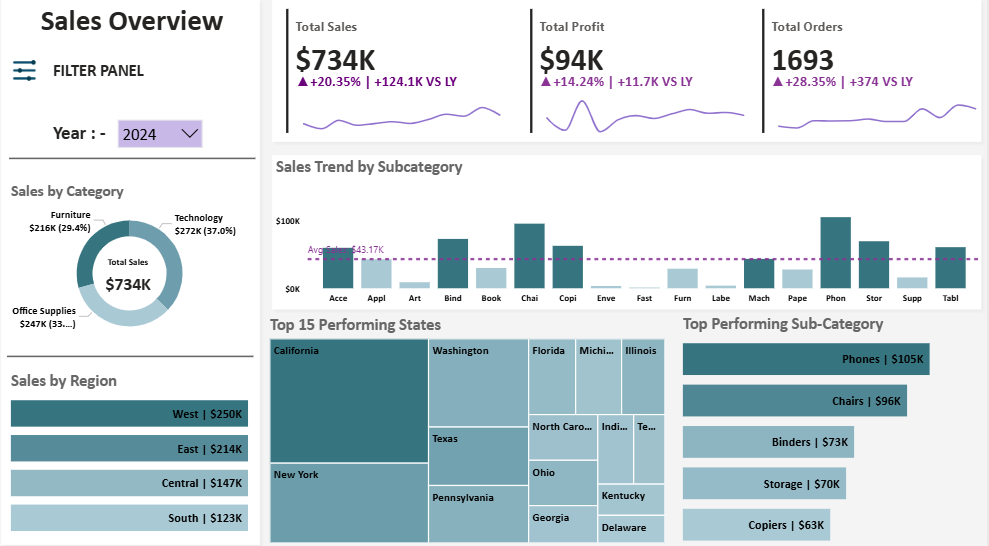

The page's visual inventory and layout, read from the dashboard file:
{"tool":"powerbi","page":{"name":"Page 1","canvas":[1280,720],"ordinal":0},"visuals":[{"type":"shape","box":[0,0,349.7,720],"z":0},{"type":"shape","box":[349.7,0,931,200],"z":1000},{"type":"slicer","fields":{"Values":["Date Table.Year"]},"box":[154.2,158.9,119.2,42.9],"z":2000},{"type":"group","id":"g1","title":"Group 1","box":[371.9,15.9,294,170.8],"z":3000},{"type":"cardVisual","fields":{"Data":["Sales Overview.Total Sales"]},"box":[371.9,15.9,294,170],"z":3000,"group":"g1"},{"type":"cardVisual","fields":{"Data":["Sales Overview.Total Profit"]},"box":[686.6,15.9,294,170],"z":3000,"group":"g2"},{"type":"cardVisual","fields":{"Data":["Sales Overview.Total Orders"]},"box":[985.4,15.9,294,170],"z":3000,"group":"g3"},{"type":"group","id":"g2","title":"Group 2","box":[686.6,15.9,294,171.7],"z":4000},{"type":"lineChart","fields":{"Y":["Sales Overview.Total Sales"],"Category":["Date Table.Date.Variation.Date Hierarchy.Year","Date Table.Date.Variation.Date Hierarchy.Quarter","Date Table.Date.Variation.Date Hierarchy.Month","Date Table.Date.Variation.Date Hierarchy.Day"]},"box":[383,101.7,282.9,85],"z":4000,"group":"g1"},{"type":"lineChart","fields":{"Category":["Date Table.Date.Variation.Date Hierarchy.Year","Date Table.Date.Variation.Date Hierarchy.Quarter","Date Table.Date.Variation.Date Hierarchy.Month","Date Table.Date.Variation.Date Hierarchy.Day"],"Y":["Sales Overview.Total Profit"]},"box":[697.7,101.7,282.9,85.8],"z":4000,"group":"g2"},{"type":"lineChart","fields":{"Category":["Date Table.Date.Variation.Date Hierarchy.Year","Date Table.Date.Variation.Date Hierarchy.Quarter","Date Table.Date.Variation.Date Hierarchy.Month","Date Table.Date.Variation.Date Hierarchy.Day"],"Y":["Sales Overview.Total Orders"]},"box":[996.5,101.7,282.9,85.8],"z":4000,"group":"g3"},{"type":"group","id":"g3","title":"Group 2","box":[985.4,15.9,294,171.7],"z":5000},{"type":"donutChart","title":"Sales by Category","fields":{"Category":["Sales Overview.Category"],"Y":["Sales Overview.Total Sales"]},"box":[15.9,243.2,316.3,214.6],"z":6000},{"type":"textbox","box":[39.7,6.4,273.4,60.4],"z":7000},{"type":"shape","box":[17.5,182.8,317.9,60.4],"z":8000},{"type":"cardVisual","fields":{"Data":["Sales Overview.Total Sales"]},"box":[125,322.6,93.8,68.3],"z":9000},{"type":"hundredPercentStackedBarChart","title":"Sales by Region","fields":{"Category":["Sales Overview.Region"],"Y":["Sales Overview.Total Sales"]},"box":[15.9,486.4,316.3,214.6],"z":10000},{"type":"shape","box":[15.9,438.7,317.9,60.4],"z":11000},{"type":"shape","box":[349.7,201.9,931,215],"z":12000},{"type":"clusteredColumnChart","title":"Sales Trend by Subcategory","fields":{"Category":["Sales Overview.Sub Category(2)"],"Y":["Sales Overview.Total Sales"]},"box":[357.6,209.8,920.3,198.7],"z":13000},{"type":"treemap","title":"Top 15 Performing States","fields":{"Group":["Sales Overview.State/Province"],"Values":["Sales Overview.Total Sales"]},"box":[349.7,414.8,519.7,300.4],"z":14000},{"type":"clusteredBarChart","title":"Top Performing Sub-Category","fields":{"Category":["Sales Overview.Sub-Category"],"Y":["Sales Overview.Total Sales"]},"box":[882.1,413.2,394.2,300.4],"z":15000},{"type":"textbox","box":[69.9,160.5,87.4,42.9],"z":16000},{"type":"textbox","box":[69.9,82.6,157.4,44.5],"z":17000},{"type":"image","box":[6.4,77.9,63.6,44.5],"z":18000}]}

Visuals, with their boxes in screenshot pixels (x1, y1, x2, y2), scaled from the page's 1280x720 canvas onto the 989x546 screenshot:
shape: rect(0, 0, 270, 545)
shape: rect(270, 0, 988, 152)
slicer - Date Table.Year: rect(119, 120, 211, 153)
"Group 1" group: rect(287, 12, 515, 142)
cardVisual - Sales Overview.Total Sales: rect(287, 12, 515, 141)
cardVisual - Sales Overview.Total Profit: rect(531, 12, 758, 141)
cardVisual - Sales Overview.Total Orders: rect(761, 12, 988, 141)
"Group 2" group: rect(531, 12, 758, 142)
lineChart - Sales Overview.Total Sales x Date Table.Date.Variation.Date Hierarchy.Year: rect(296, 77, 515, 142)
lineChart - Date Table.Date.Variation.Date Hierarchy.Year x Date Table.Date.Variation.Date Hierarchy.Quarter: rect(539, 77, 758, 142)
lineChart - Date Table.Date.Variation.Date Hierarchy.Year x Date Table.Date.Variation.Date Hierarchy.Quarter: rect(770, 77, 988, 142)
"Group 2" group: rect(761, 12, 988, 142)
"Sales by Category" donutChart: rect(12, 184, 257, 347)
textbox: rect(31, 5, 242, 51)
shape: rect(14, 139, 259, 184)
cardVisual - Sales Overview.Total Sales: rect(97, 245, 169, 296)
"Sales by Region" hundredPercentStackedBarChart: rect(12, 369, 257, 532)
shape: rect(12, 333, 258, 378)
shape: rect(270, 153, 988, 316)
"Sales Trend by Subcategory" clusteredColumnChart: rect(276, 159, 987, 310)
"Top 15 Performing States" treemap: rect(270, 315, 672, 542)
"Top Performing Sub-Category" clusteredBarChart: rect(682, 313, 986, 541)
textbox: rect(54, 122, 122, 154)
textbox: rect(54, 63, 176, 96)
image: rect(5, 59, 54, 93)
